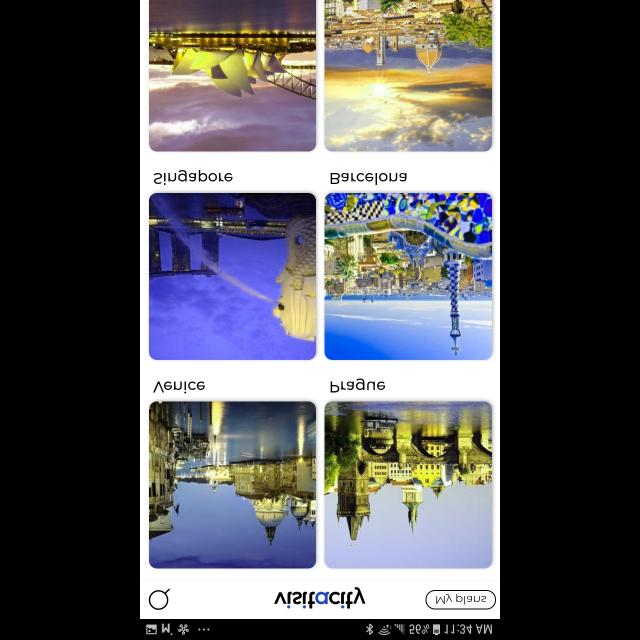icon: (150, 588, 170, 610)
image: (324, 192, 492, 360), (150, 192, 316, 360), (324, 402, 492, 568), (150, 402, 316, 568), (324, 0, 492, 152), (150, 0, 316, 152), (274, 587, 366, 609)
text: (154, 170, 233, 186), (331, 172, 407, 185), (330, 378, 386, 392), (153, 382, 205, 394)
textbutton: (426, 589, 496, 609)
uppertaskbar: (140, 618, 500, 640)
